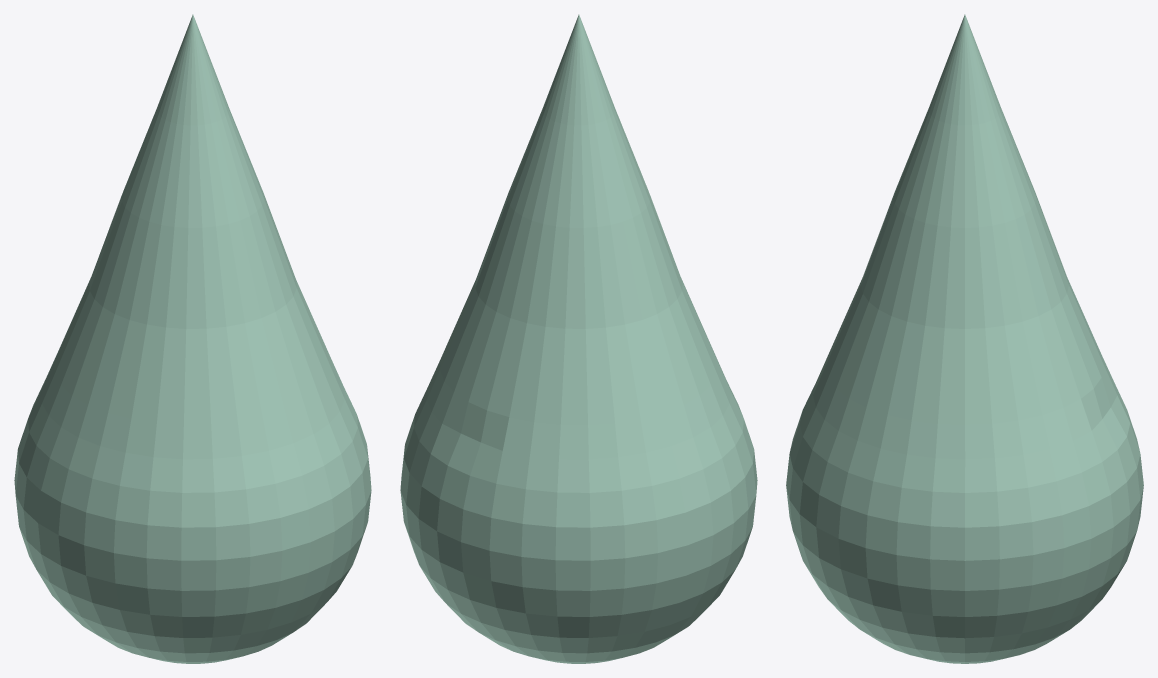
File: waterdropanimdelayandfast.fbx
3 views of the same model, side by side, from view 1: azimuth 30°, elevation 25°; view 2: azimuth 150°, elevation 25°; view 3: azimuth 270°, elevation 25° (orthographic).
Visible parts, largest first — view 1: waterdrop:Mesh; view 2: waterdrop:Mesh; view 3: waterdrop:Mesh.
Part boxes in pixels (box(x1,y1,x2,y2)): waterdrop:Mesh: box(14, 14, 371, 663); waterdrop:Mesh: box(400, 14, 757, 663); waterdrop:Mesh: box(786, 14, 1143, 663).
Bounding box in the file's own units: 0.4867 × 0.9507 × 0.4867.
